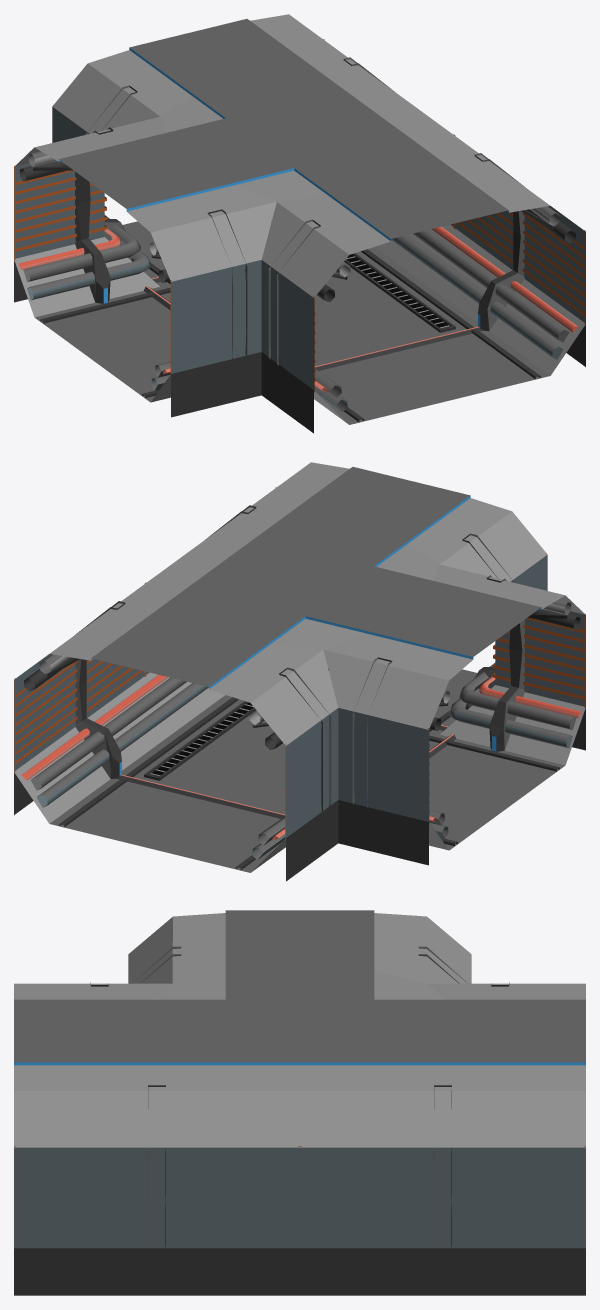
File: T_SciFi_Tunnel.fbx
3 renders of one model, top to bottom at view 1: azimuth 30°, elevation 25°; view 2: azimuth 150°, elevation 25°; view 3: azimuth 270°, elevation 25°, orthographic. The views are drawn at different scales.
Visible parts, largest first — view 1: T_SciFi_Tunnel_Ceiling, T_SciFi_Tunnel, T_SciFi_Tunnel_South, T_SciFi_Tunnel_West, T_SciFi_Tunnel_East, T_SciFi_Tunnel_North; view 2: T_SciFi_Tunnel_Ceiling, T_SciFi_Tunnel, T_SciFi_Tunnel_North, T_SciFi_Tunnel_West, T_SciFi_Tunnel_East, T_SciFi_Tunnel_South; view 3: T_SciFi_Tunnel_East, T_SciFi_Tunnel_Ceiling, T_SciFi_Tunnel, T_SciFi_Tunnel_North, T_SciFi_Tunnel_South.
Part boxes in pixels (x1=…): T_SciFi_Tunnel_Ceiling: x1=35, y1=14, x2=550, y2=254; T_SciFi_Tunnel: x1=14, y1=215, x2=585, y2=433; T_SciFi_Tunnel_South: x1=150, y1=202, x2=276, y2=375; T_SciFi_Tunnel_West: x1=52, y1=63, x2=350, y2=392; T_SciFi_Tunnel_East: x1=323, y1=39, x2=585, y2=330; T_SciFi_Tunnel_North: x1=14, y1=127, x2=113, y2=303; T_SciFi_Tunnel_Ceiling: x1=49, y1=462, x2=564, y2=702; T_SciFi_Tunnel: x1=14, y1=663, x2=585, y2=881; T_SciFi_Tunnel_North: x1=323, y1=649, x2=449, y2=823; T_SciFi_Tunnel_West: x1=249, y1=511, x2=547, y2=840; T_SciFi_Tunnel_East: x1=14, y1=487, x2=276, y2=778; T_SciFi_Tunnel_South: x1=486, y1=575, x2=585, y2=751; T_SciFi_Tunnel_East: x1=14, y1=1085, x2=585, y2=1248; T_SciFi_Tunnel_Ceiling: x1=14, y1=910, x2=585, y2=1090; T_SciFi_Tunnel: x1=14, y1=1248, x2=585, y2=1295; T_SciFi_Tunnel_North: x1=418, y1=917, x2=471, y2=983; T_SciFi_Tunnel_South: x1=128, y1=917, x2=181, y2=983.
Bounding box in the file's own units: 804 × 372 × 1000.
